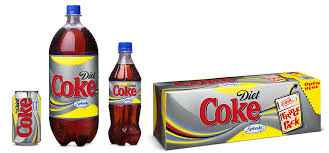can: (11, 82, 44, 147)
